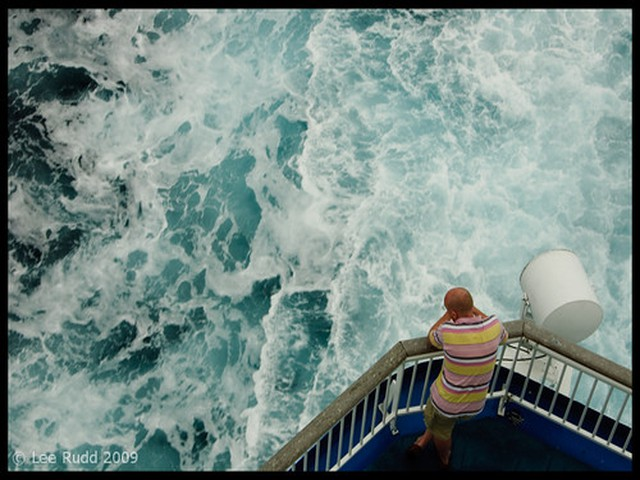Person: (415, 280, 513, 467)
